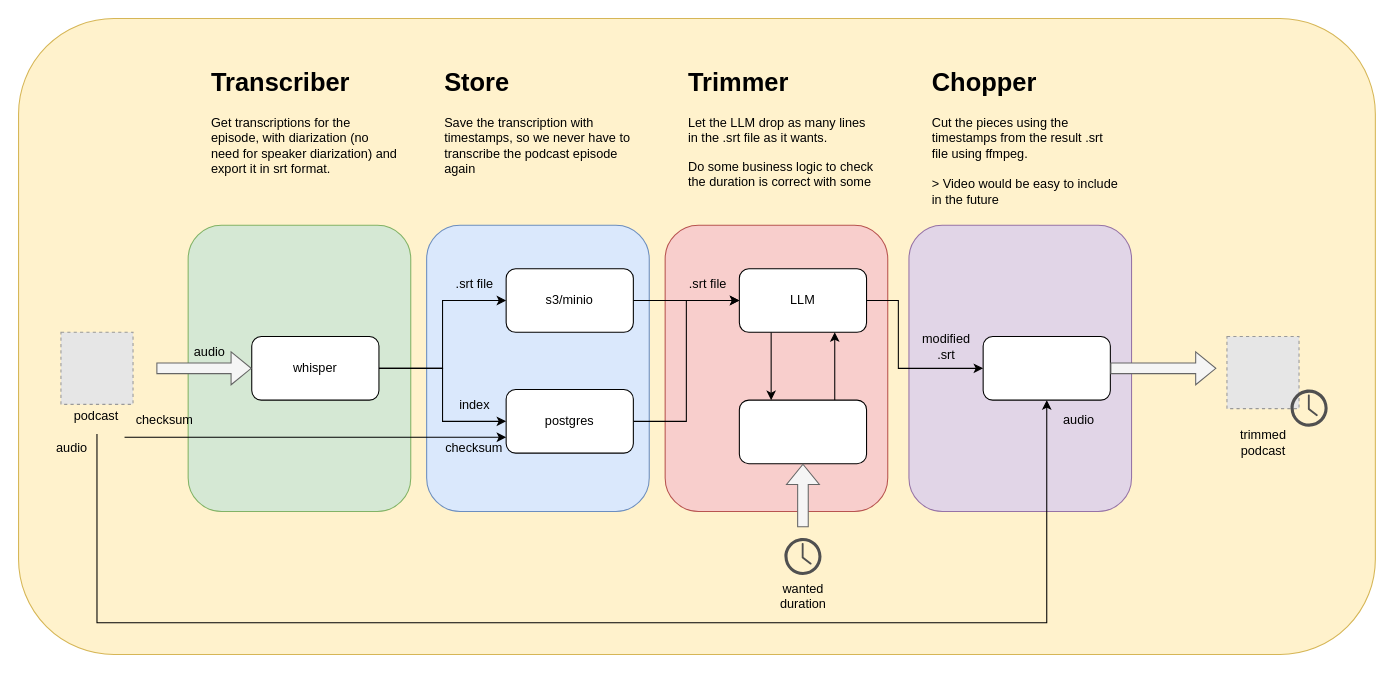
This 1394x673 diagram has some shape labels left out. Grey dashed boxes stand in for pictures. The shapes that lost their labels are listed below. From the top down, each one's centre as x and y in pixels, then its label:
At [1046,367]: "ffmpeg".
At [802,431]: "wanted duration business logic".
